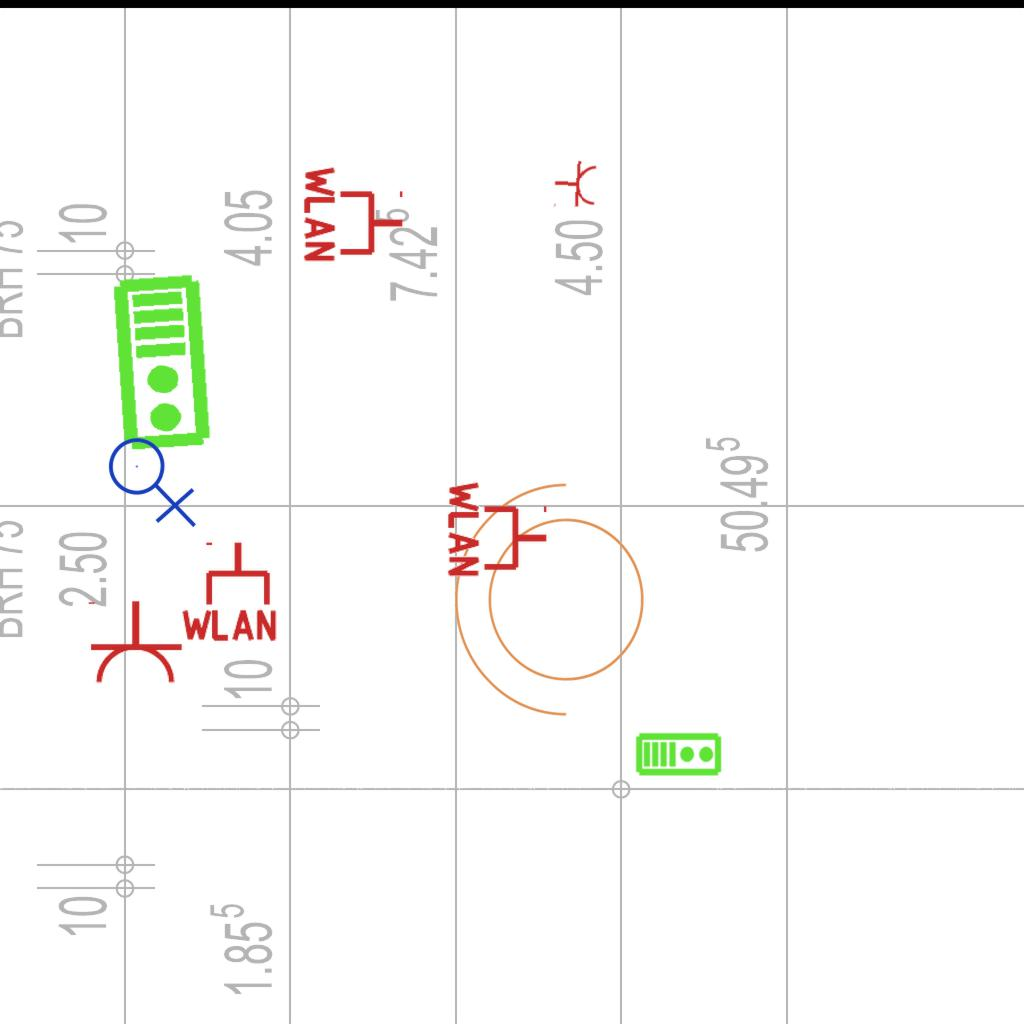Elektroanschluss_allgemein_230V_Geraeteanschlussdose_230V: (107, 429, 201, 528)
Gegensprechanlage_mit_Video: (109, 271, 218, 455), (635, 730, 723, 777)
Scheinwerfer_fuer_Alarmbeleuchtung: (444, 474, 669, 738)
Schukosteckdose_einfach: (84, 599, 184, 686), (552, 158, 599, 212)
WLAN: (302, 162, 407, 266), (177, 538, 281, 643), (446, 477, 551, 581)
